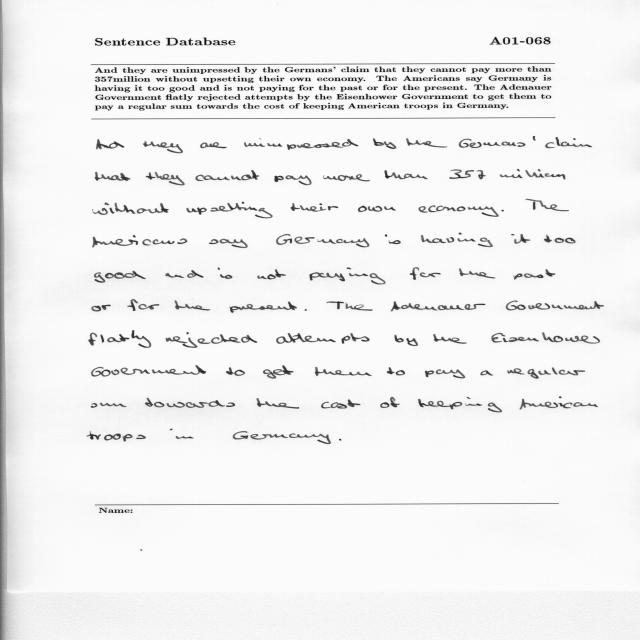word: (187, 202, 273, 219), (166, 332, 257, 348), (244, 138, 358, 150), (491, 332, 600, 344), (310, 268, 386, 285), (233, 431, 331, 444), (418, 397, 502, 412), (92, 366, 206, 377), (93, 235, 187, 248), (276, 234, 369, 247), (449, 169, 566, 179), (89, 330, 151, 348), (391, 301, 485, 312), (277, 333, 370, 344), (520, 397, 598, 410), (421, 233, 493, 247), (93, 202, 169, 215), (506, 301, 604, 311), (418, 205, 499, 217), (507, 367, 585, 379), (459, 136, 536, 148), (145, 398, 235, 408), (229, 301, 297, 313), (196, 170, 260, 181), (87, 431, 146, 442), (94, 271, 146, 283), (525, 199, 569, 211), (545, 137, 592, 148), (315, 367, 372, 376), (146, 172, 185, 185), (143, 141, 183, 153), (257, 398, 300, 409), (326, 301, 373, 311), (514, 269, 555, 280), (291, 203, 339, 212), (406, 138, 448, 148), (263, 365, 293, 379), (410, 267, 441, 280), (384, 170, 428, 179), (175, 300, 211, 311), (322, 399, 361, 409), (274, 175, 312, 185), (459, 269, 495, 279), (425, 370, 465, 379), (128, 300, 160, 311), (209, 239, 247, 248), (433, 334, 467, 344), (323, 175, 370, 182), (96, 172, 131, 181), (165, 270, 204, 278), (257, 270, 286, 280), (97, 139, 125, 149), (394, 335, 418, 346), (170, 428, 194, 439), (373, 138, 396, 149), (544, 235, 575, 243), (358, 206, 396, 212), (380, 397, 400, 408), (91, 402, 127, 408), (511, 234, 530, 244), (226, 367, 245, 376), (218, 267, 232, 279), (385, 234, 401, 244), (200, 143, 226, 149), (387, 367, 405, 375), (92, 305, 111, 312), (481, 371, 494, 376), (501, 210, 504, 212), (305, 309, 307, 311), (339, 439, 341, 441)
